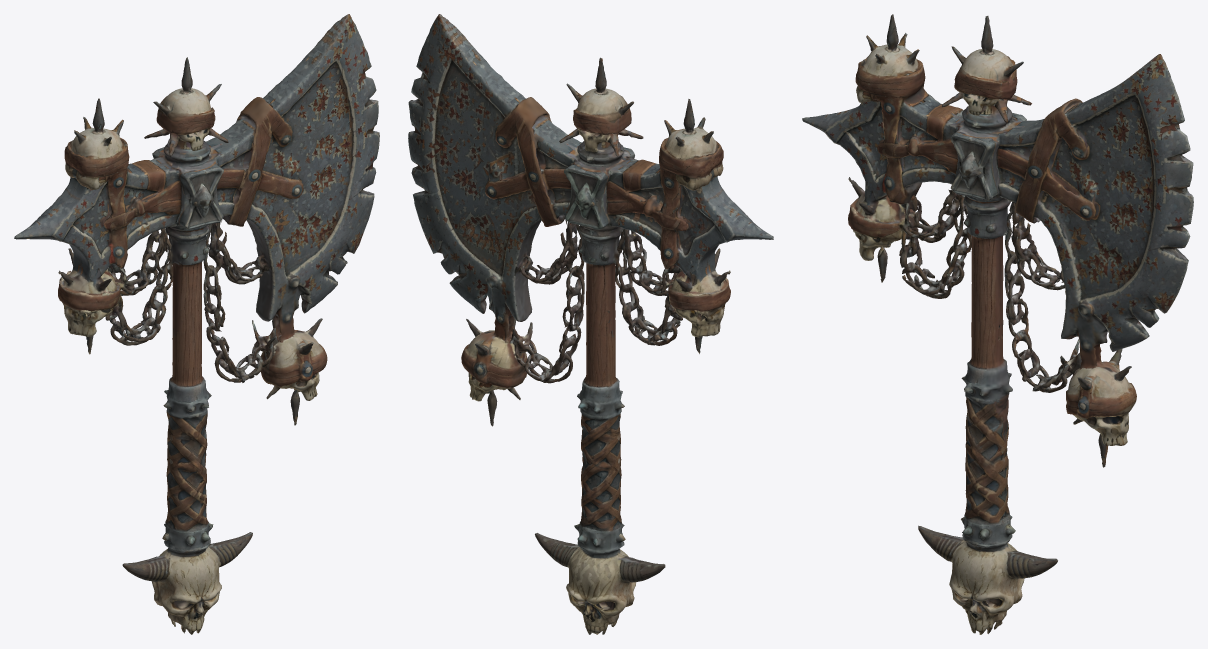
The model's file is OrcWarlordAxe.glb.
3 views of the same model, side by side, from view 1: azimuth 30°, elevation 25°; view 2: azimuth 150°, elevation 25°; view 3: azimuth 330°, elevation 25° (orthographic). The views are drawn at different scales.
Visible parts, largest first — view 1: texture_mapping; view 2: texture_mapping; view 3: texture_mapping.
Part boxes in pixels (left/top/right/bottom): texture_mapping: left=14, top=14, right=379, bottom=634; texture_mapping: left=408, top=14, right=773, bottom=634; texture_mapping: left=802, top=14, right=1193, bottom=634.
Bounding box in the file's own units: 0.6523 × 0.9826 × 0.1334.
Materials: 1 (1 with a texture image).
